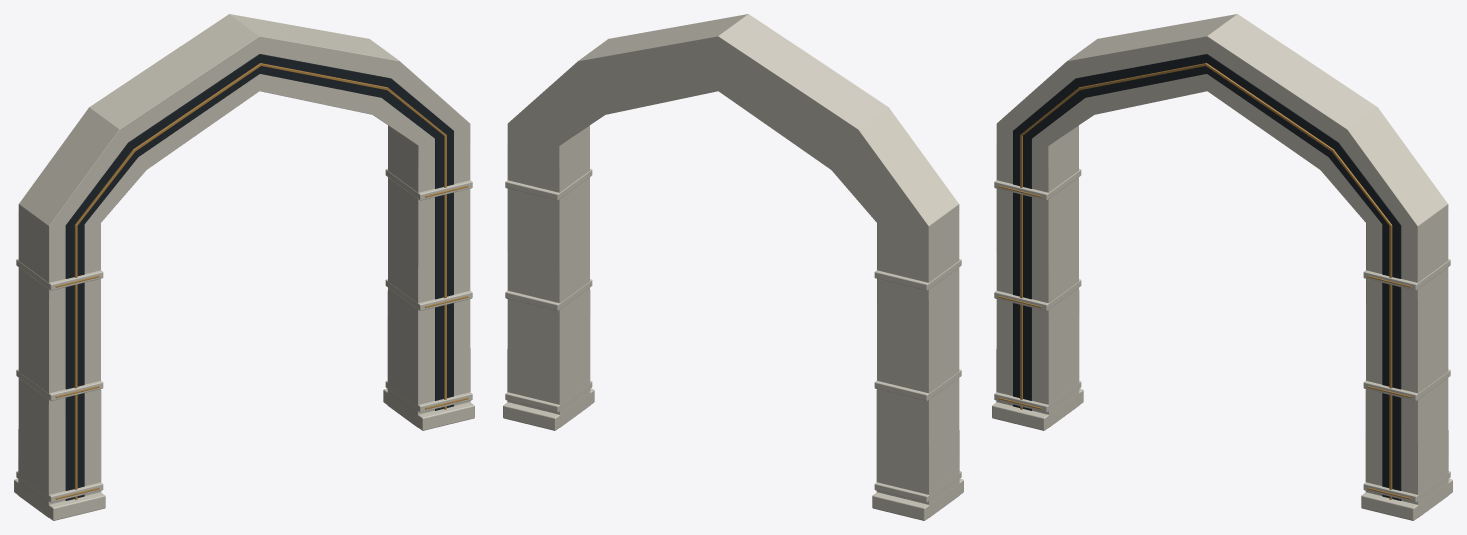
File: SM_Aurelion_KIT_Portal_6m.fbx
3 renders of one model, left to right at view 1: azimuth 30°, elevation 25°; view 2: azimuth 150°, elevation 25°; view 3: azimuth 330°, elevation 25°, orthographic.
Parts seen in each view (by area): view 1: SM_Aurelion_KIT_Portal_6m; view 2: SM_Aurelion_KIT_Portal_6m; view 3: SM_Aurelion_KIT_Portal_6m.
Part boxes in pixels (box(x1,y1,x2,y2)): SM_Aurelion_KIT_Portal_6m: box(14, 14, 474, 520); SM_Aurelion_KIT_Portal_6m: box(503, 14, 963, 520); SM_Aurelion_KIT_Portal_6m: box(992, 14, 1452, 520).
Size of what is drawn, in the model's own units: 800 by 130 by 780.
